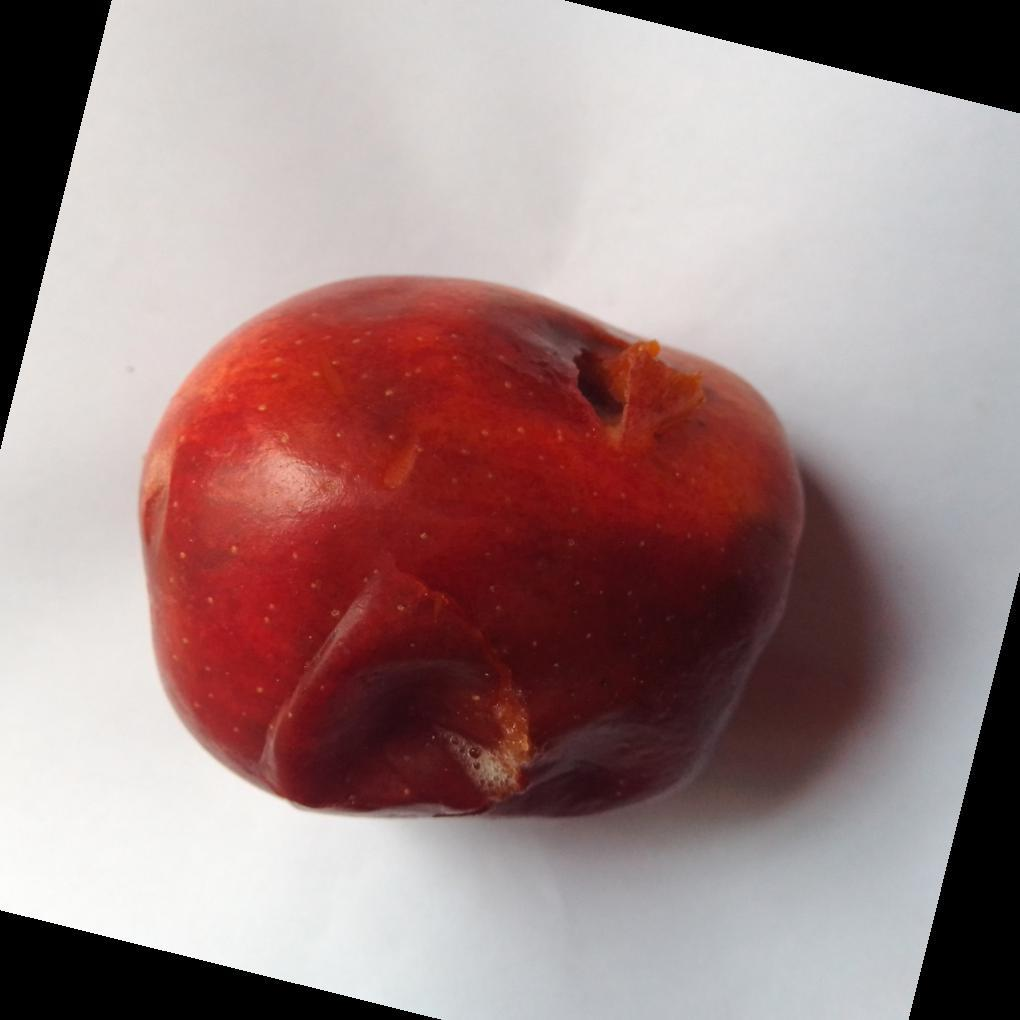FreshOrange: (137, 276, 807, 822)
